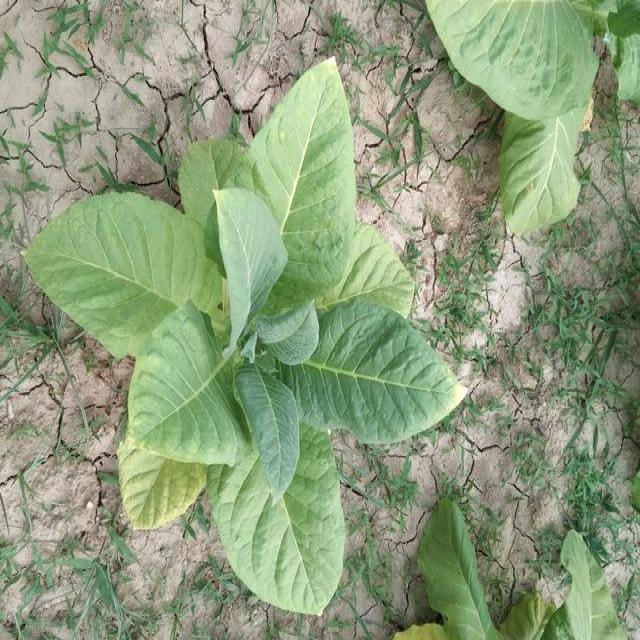crop: (34, 72, 452, 615), (428, 0, 640, 237), (422, 505, 609, 640)
